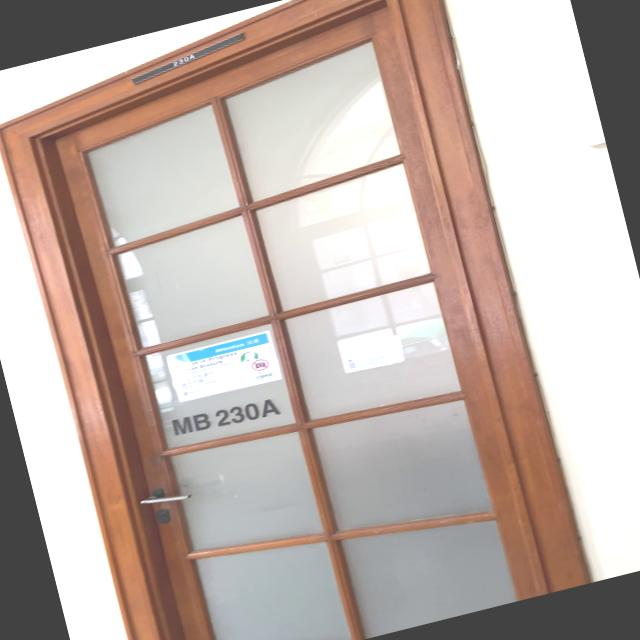room230A: (125, 30, 249, 86)
room230AWindow: (167, 388, 285, 442)
